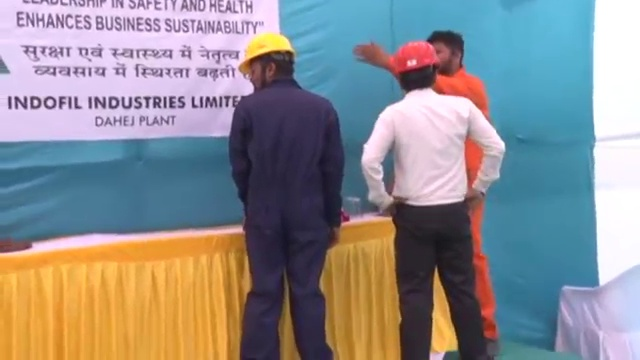helmet: (236, 33, 297, 75), (393, 40, 441, 75)
helmet_off: (427, 31, 466, 76)
helmet_on: (235, 33, 298, 91), (392, 40, 442, 94)
person: (361, 41, 505, 360), (229, 34, 340, 360), (426, 32, 498, 357)
